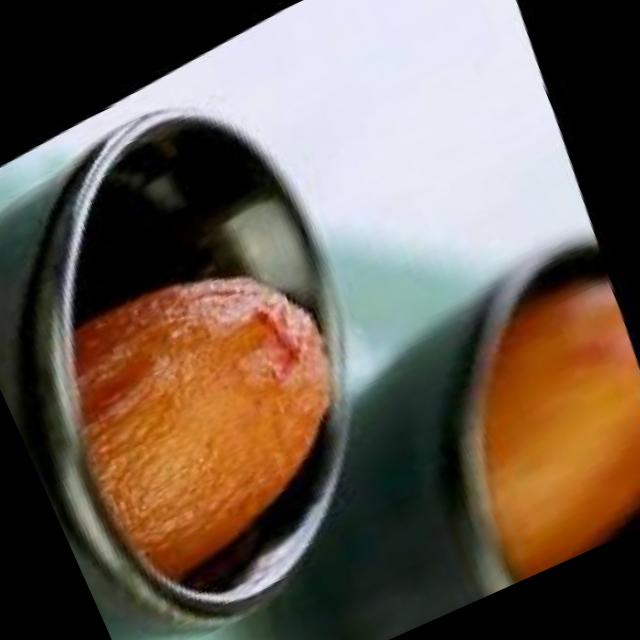gulab_jamun: (22, 210, 398, 588), (417, 256, 640, 579)
